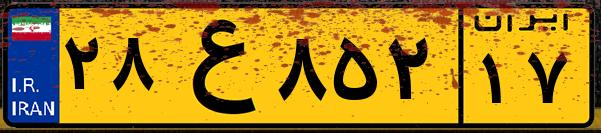1: (475, 38, 525, 113)
2: (385, 28, 445, 110), (57, 26, 110, 100)
5: (330, 28, 385, 110)
7: (525, 38, 570, 115)
8: (270, 28, 330, 110), (110, 28, 158, 98)
ع: (158, 12, 270, 120)
